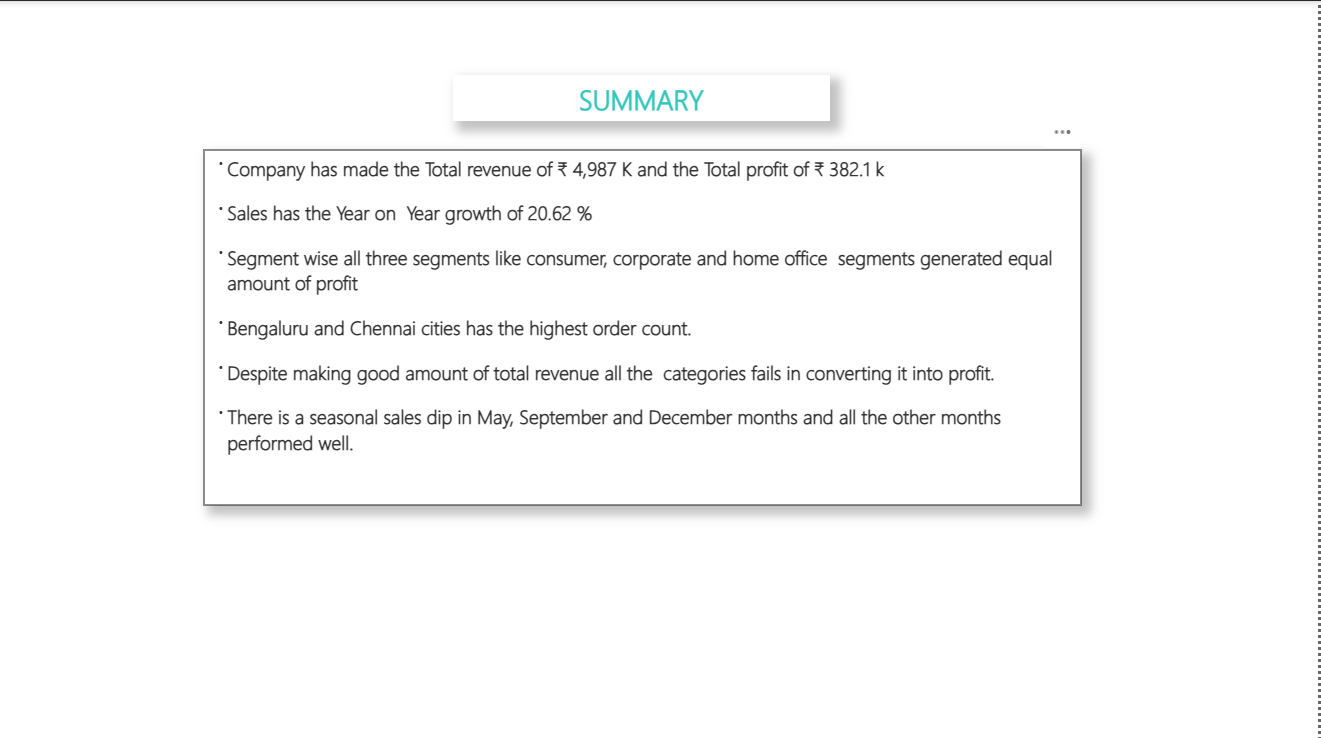

What the dashboard file says about the page in this screenshot:
{"tool":"powerbi","page":{"name":"Summary","canvas":[1280,720],"ordinal":3},"visuals":[{"type":"textbox","box":[198.8,144.1,851.4,344.5],"z":0},{"type":"textbox","box":[440.3,71.8,366.6,45.4],"z":1000}]}

Visuals, with their boxes in screenshot pixels (x1, y1, x2, y2), scaled from the page's 1280x720 canvas onto the 1321x738 screenshot:
textbox: (205,148,1084,501)
textbox: (454,74,833,120)
